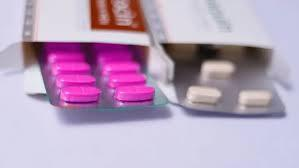pill_Strip: (40, 46, 167, 110), (171, 56, 284, 115), (46, 49, 100, 102), (114, 86, 155, 102), (60, 86, 100, 102), (201, 60, 235, 78), (186, 86, 221, 103), (239, 90, 273, 107), (101, 61, 140, 75), (96, 51, 132, 66), (23, 0, 36, 40), (108, 73, 145, 87), (56, 74, 95, 87), (51, 62, 90, 75), (47, 51, 84, 63), (60, 86, 89, 101), (43, 42, 81, 52), (91, 43, 129, 52), (115, 100, 152, 106)
